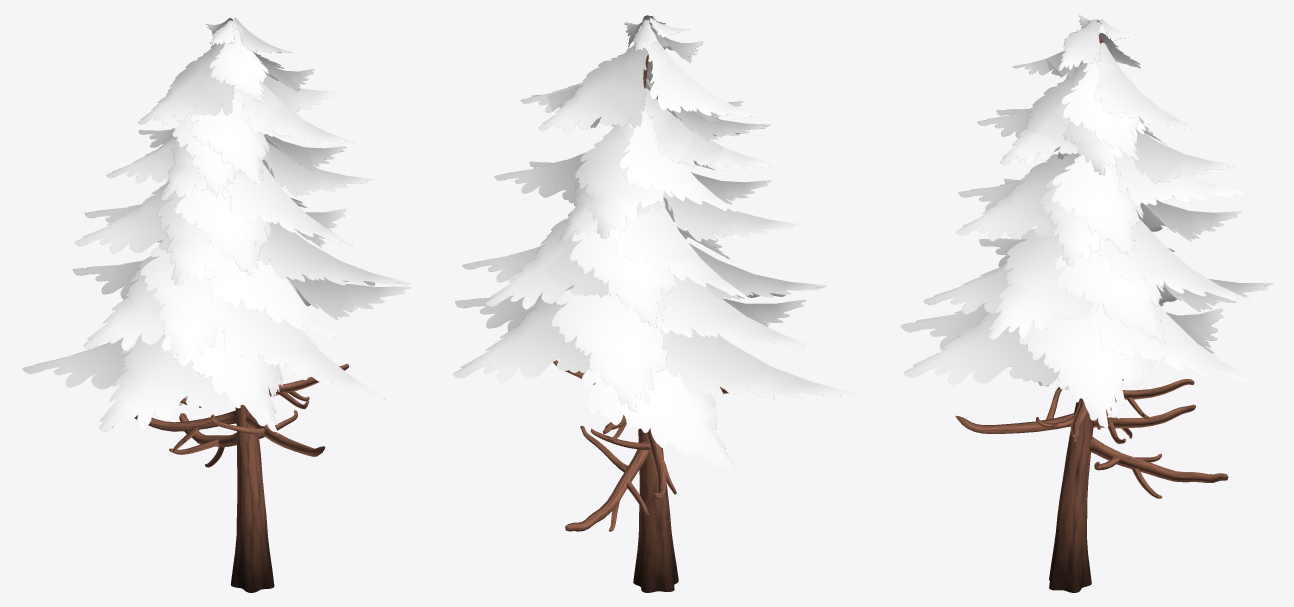
The model's file is Pine_1.gltf.
The picture shows the model from 3 angles, left to right: view 1: azimuth 30°, elevation 25°; view 2: azimuth 150°, elevation 25°; view 3: azimuth 270°, elevation 25°; orthographic projection. The views are drawn at different scales.
Visible parts, largest first — view 1: Pine_1; view 2: Pine_1; view 3: Pine_1.
Part boxes in pixels (bbox=[...]): Pine_1: bbox=[22, 18, 411, 592]; Pine_1: bbox=[453, 15, 856, 592]; Pine_1: bbox=[901, 14, 1273, 592].
Bounding box in the file's own units: 4.94 × 7.32 × 4.54.
2 materials, 2 textured.
